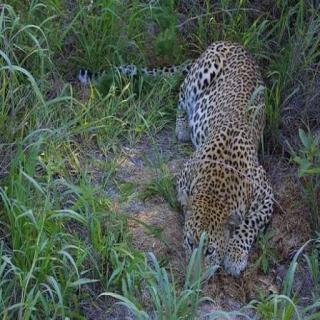Leopard: (169, 27, 305, 289)
